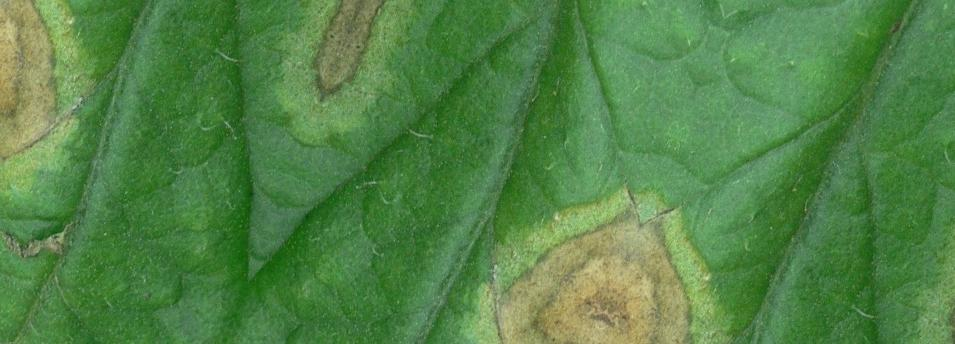Tomato leaf late blight: (140, 0, 815, 344)
